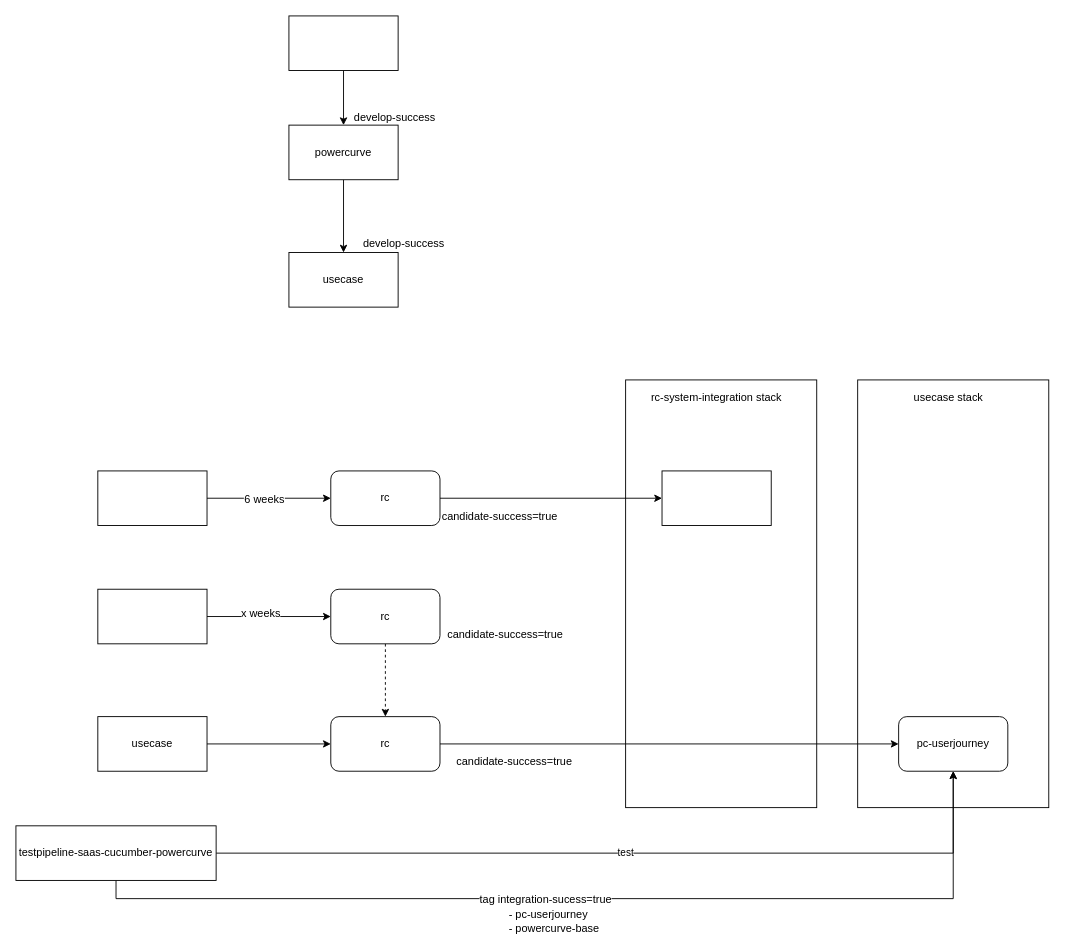
This 1065x951 diagram has some shape labels left out. The box of each missing label's shape, as (x1, y1, x2, y2) in pixels:
microservicse: (661, 470, 771, 526)
microservicses: (97, 470, 207, 526)
platform microservices: (288, 15, 398, 71)
powercurve-base: (97, 588, 207, 644)
